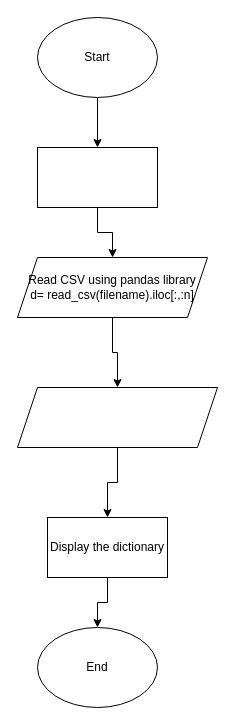
This 235x725 diagram has some shape labels left out. The centre of each missing label's shape, as x and y in pixels:
"Initialize filename = ' ' Get no. of columns to 'n'" goes at (97,177).
"using dataframe.to_dict('list') convert the csv to dict form" goes at (117,417).
